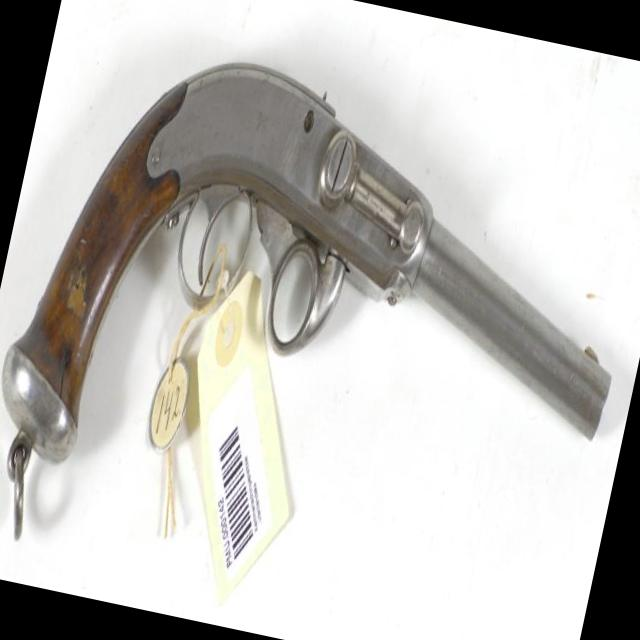Gun: (2, 63, 610, 515)
